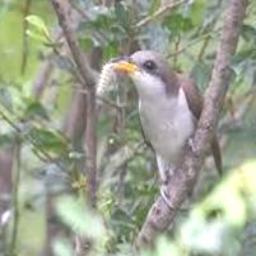Cuckoo: (112, 50, 222, 185)
